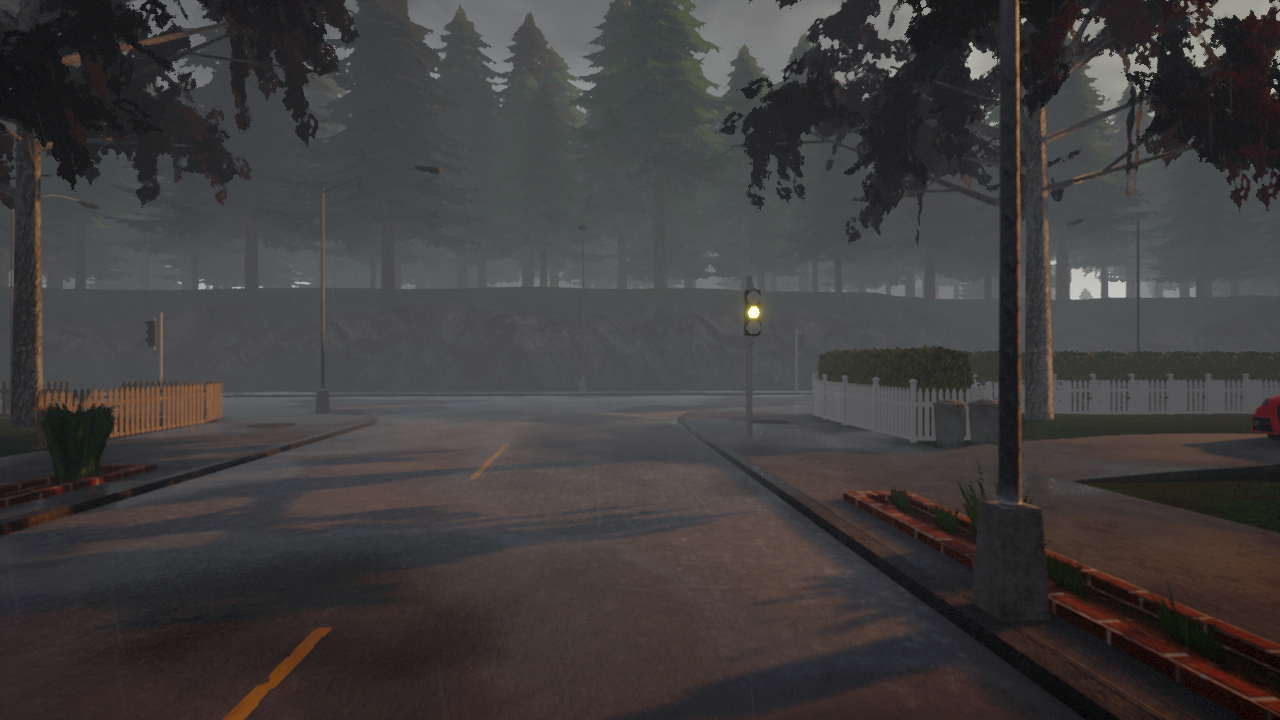yellow: (742, 287, 763, 337)
